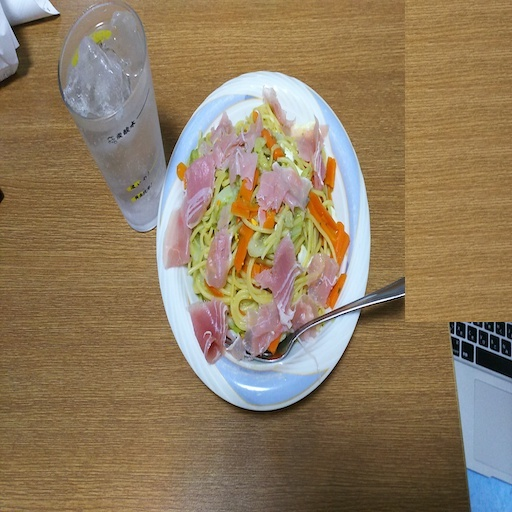drink: (58, 2, 176, 233)
pasta: (169, 89, 352, 372)
